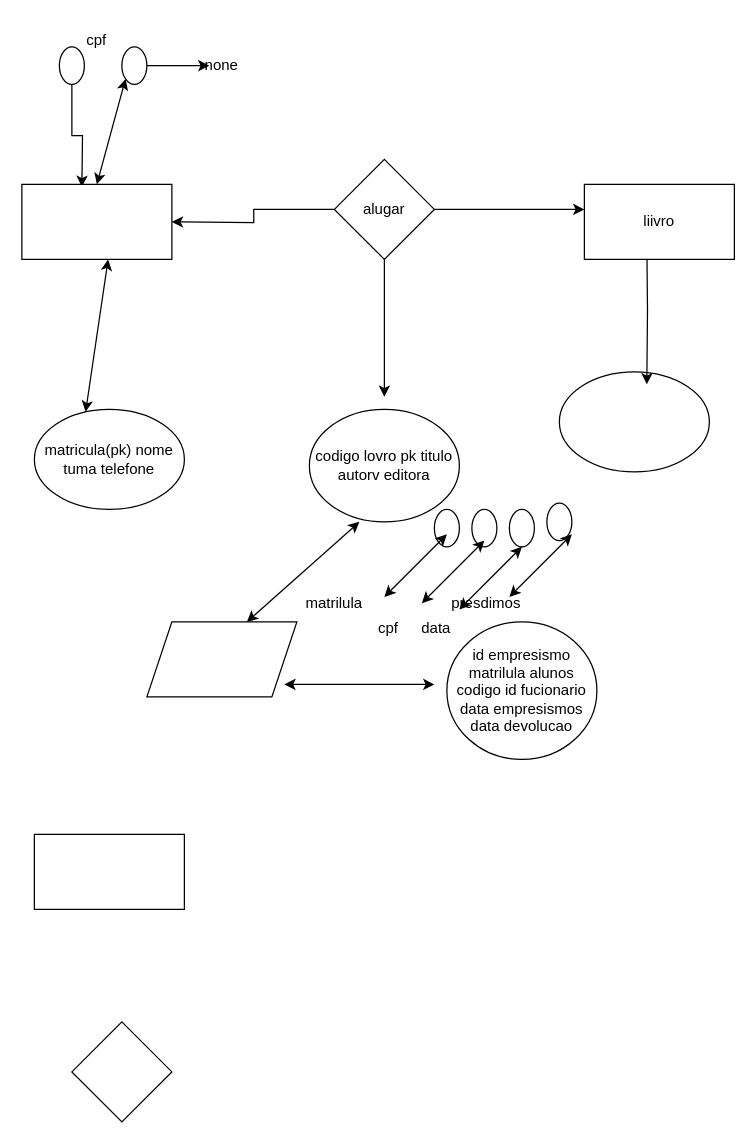
Image size: 756x1144. Some labels were removed from this diagram. The centre of each missing label's shape, as x and y in pixels:
aluno: the point at 96,221
empresimos: the point at 221,659
id funcionario nome cargo: the point at 633,421
